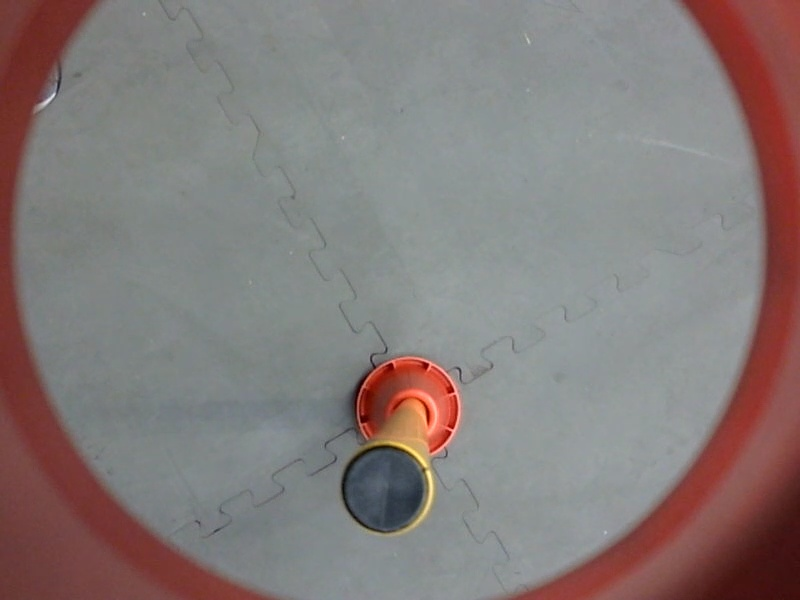tip: (333, 442, 442, 545)
